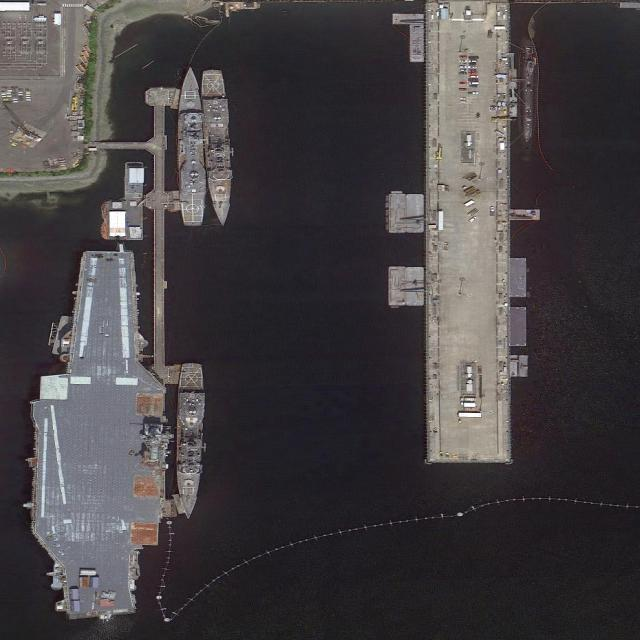Aircraft Carrier: (30, 250, 165, 621)
Dock: (141, 86, 180, 383)
Frigate: (173, 362, 206, 519), (201, 70, 234, 226), (179, 66, 204, 226)
Submarine: (520, 47, 535, 142)
